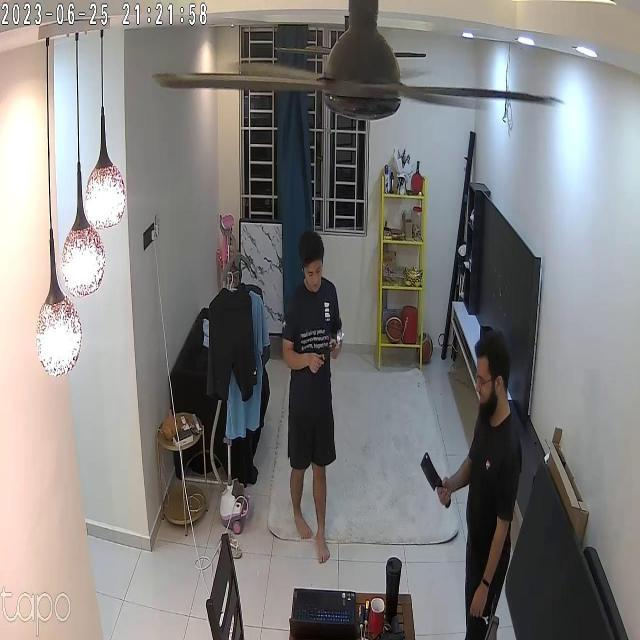Knife: (407, 442, 451, 512)
